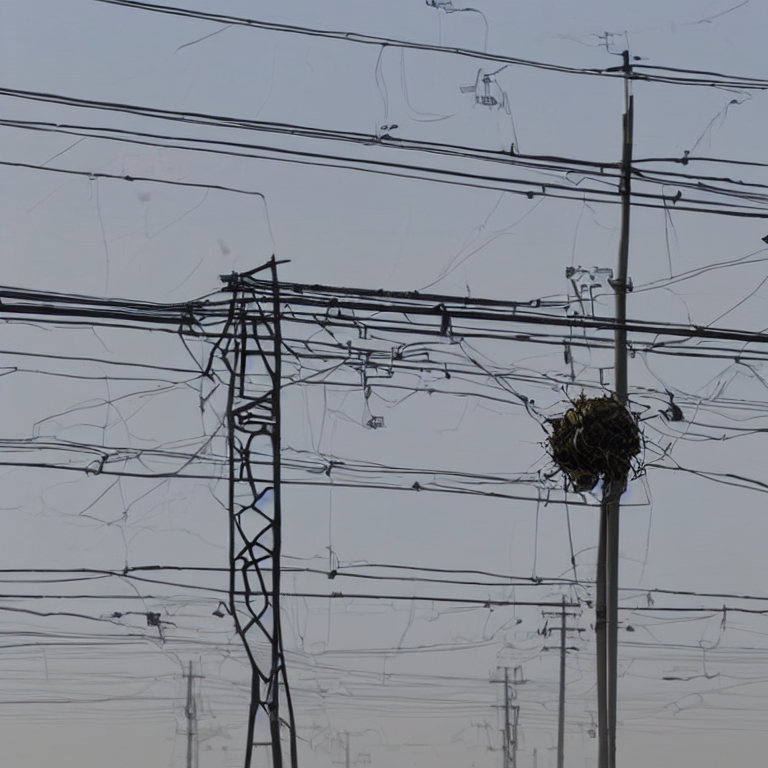nest: (548, 399, 640, 481)
